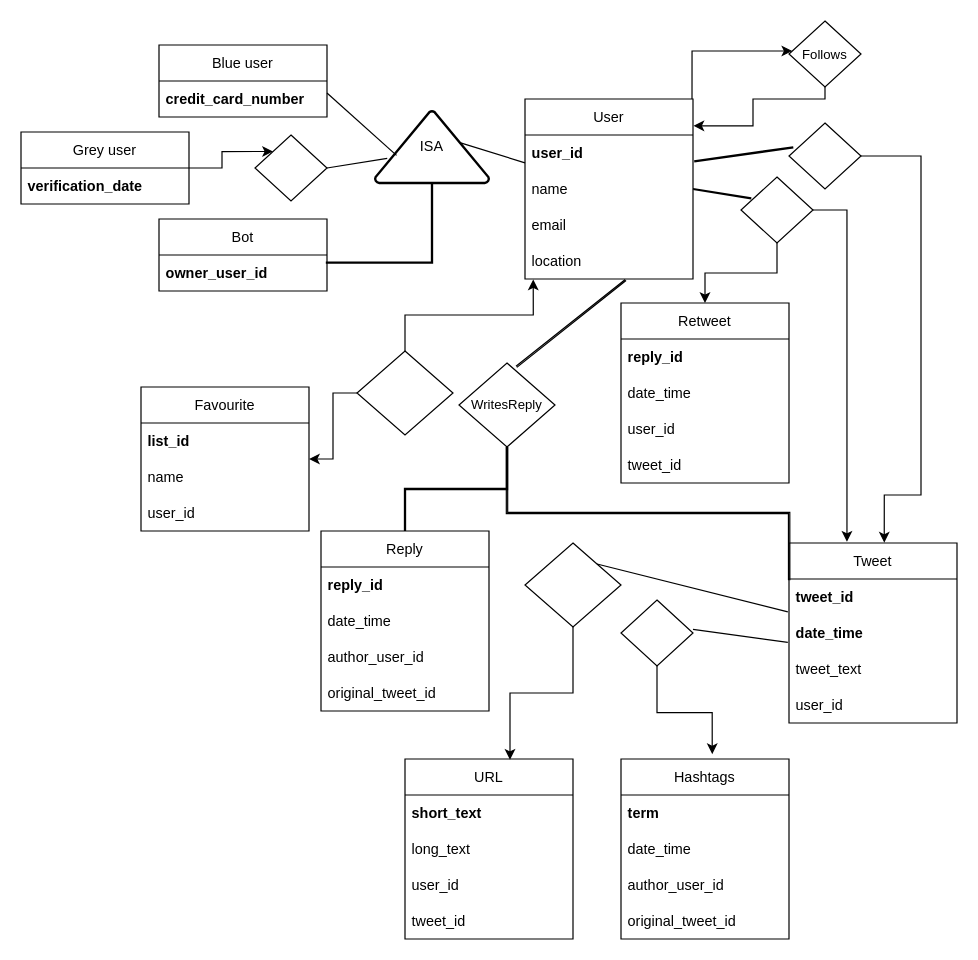
Image size: 978x960. Some labels were removed from this diagram. The shapes that lost their labels are listed below. From the top down, each one's centre as x and y in pixels, then its label:
[290,167]: Affiliation
[824,155]: Creates
[776,209]: Retweets
[404,392]: Includes
[572,584]: References
[656,632]: Mentions
